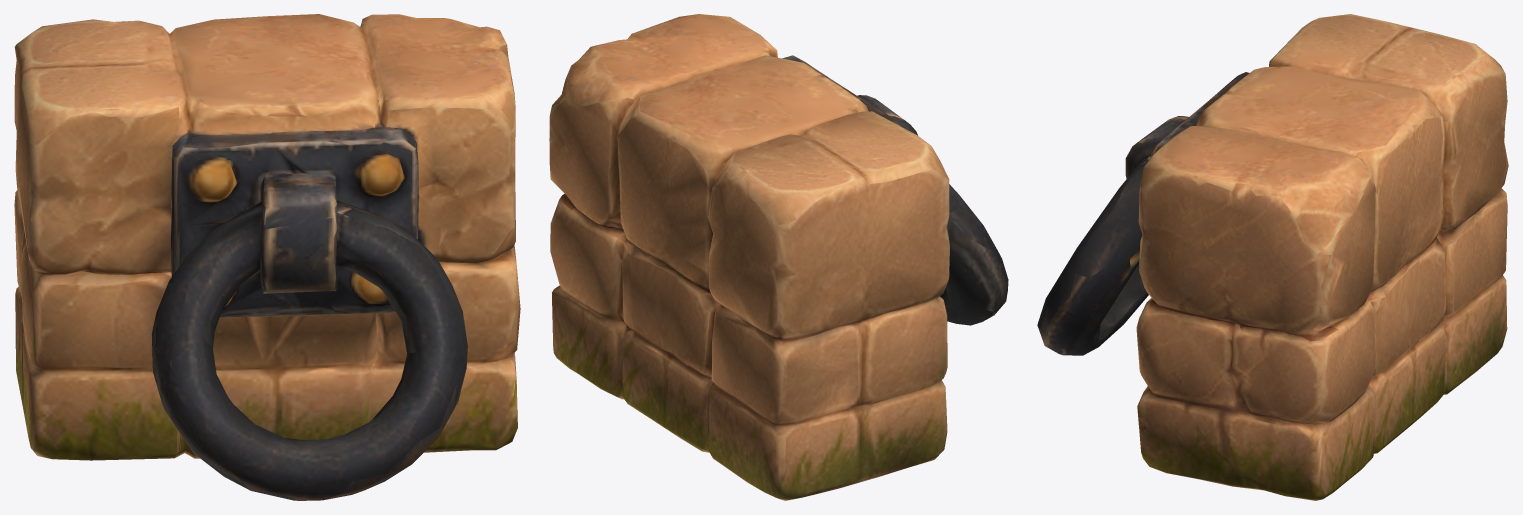
The model's file is mooring-ring.glb.
3 views of the same model, side by side, from view 1: azimuth 30°, elevation 25°; view 2: azimuth 150°, elevation 25°; view 3: azimuth 270°, elevation 25° (orthographic). The views are drawn at different scales.
Parts seen in each view (by area): view 1: mooring-ring; view 2: mooring-ring; view 3: mooring-ring.
Part boxes in pixels (left/top/right/bottom): mooring-ring: left=14, top=14, right=520, bottom=500; mooring-ring: left=549, top=14, right=1008, bottom=500; mooring-ring: left=1037, top=14, right=1508, bottom=500.
Size of the model in its own units: 0.7938 by 0.5804 by 0.8009.
Materials: 1 (1 with a texture image).
